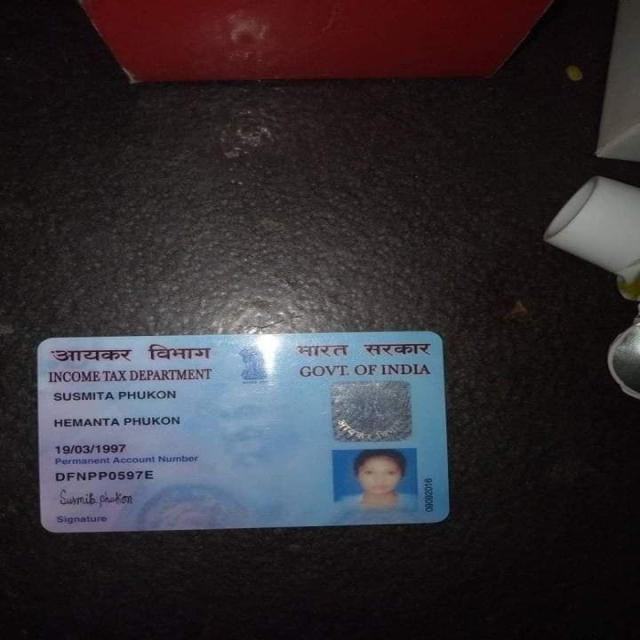pan_card: (37, 331, 450, 531)
